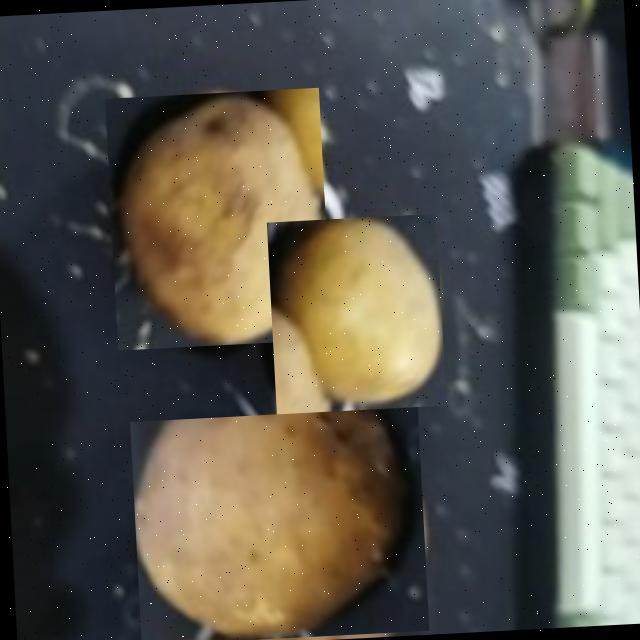Damaged potato: (129, 407, 428, 640), (104, 87, 331, 350)
Potato: (266, 213, 446, 414)
